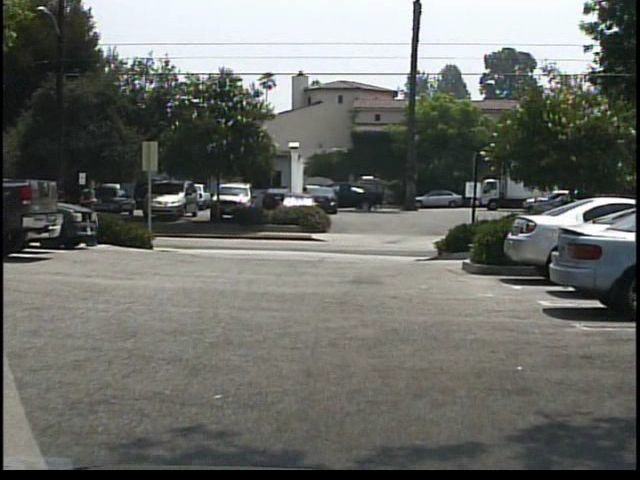person: (76, 178, 106, 248)
